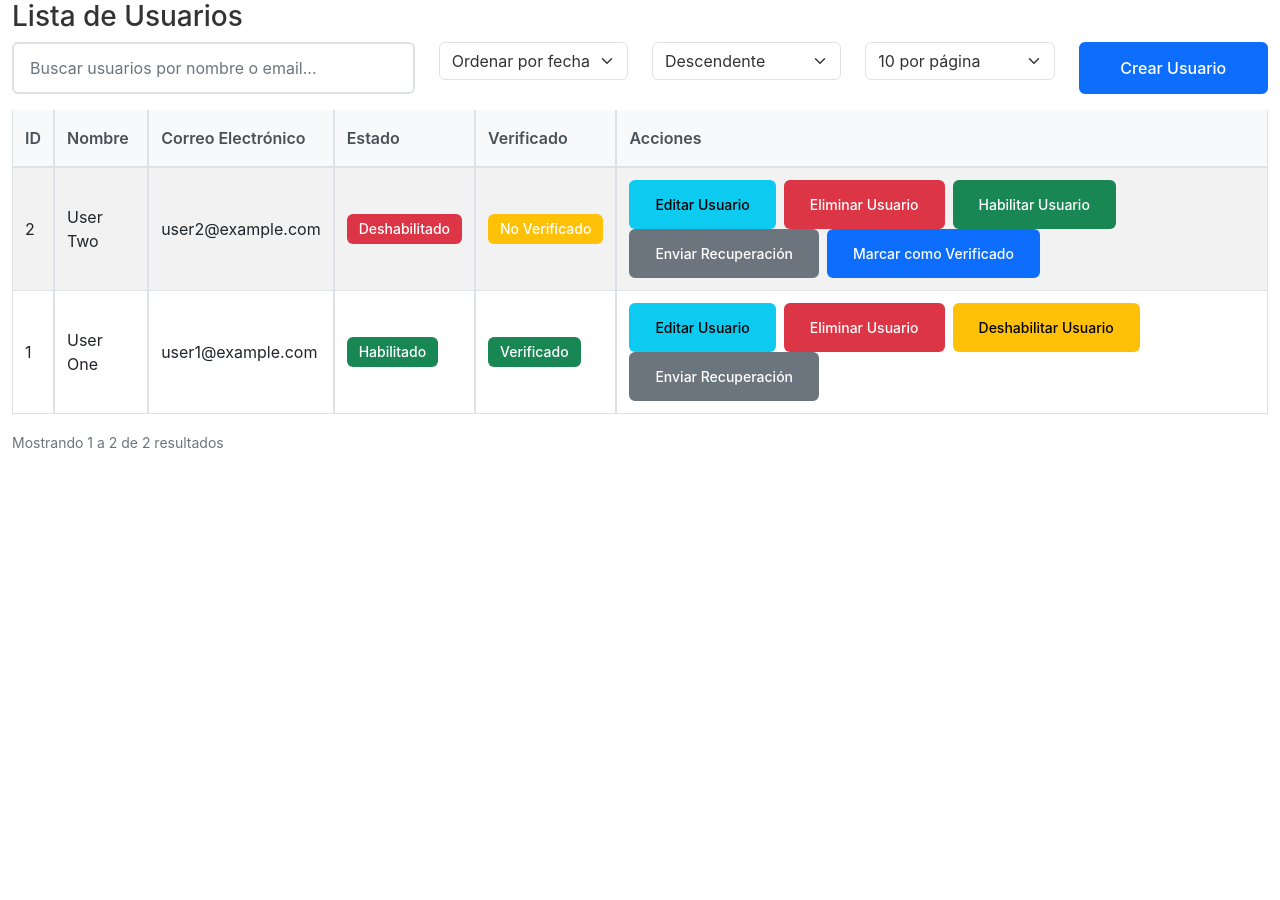
Test: UsersSettings Component › should open the create user modal
This screenshot has width=1280, height=900.
Check: the text "User One" is shown, box [54,291,148,414]
Click the button "Crear Usuario". click: (1173, 68)
box: [1079,42,1268,94]
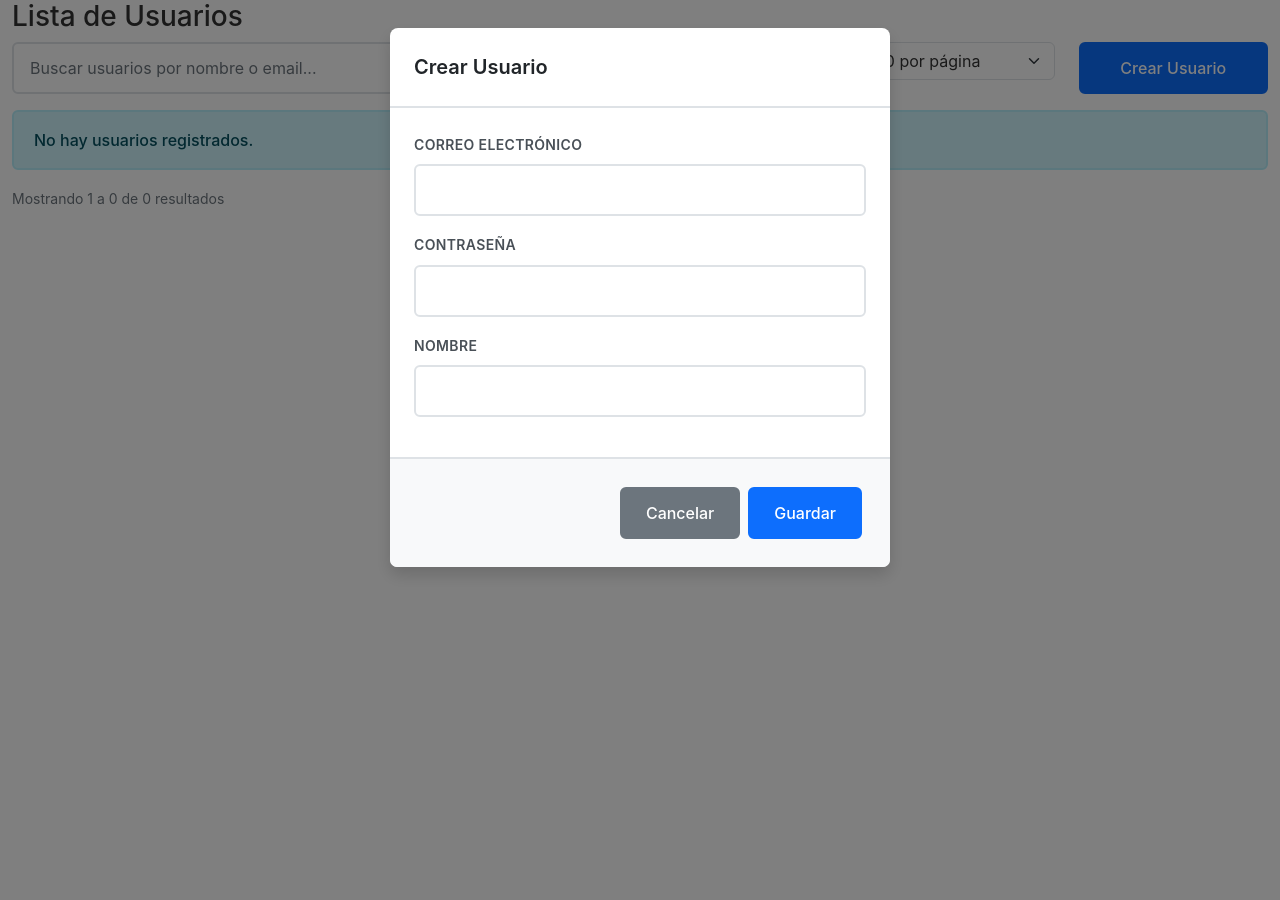
Check: the dialog is shown, box [390,28,890,567]
Check: the text "Crear Usuario" is shown, box [414,52,548,82]
